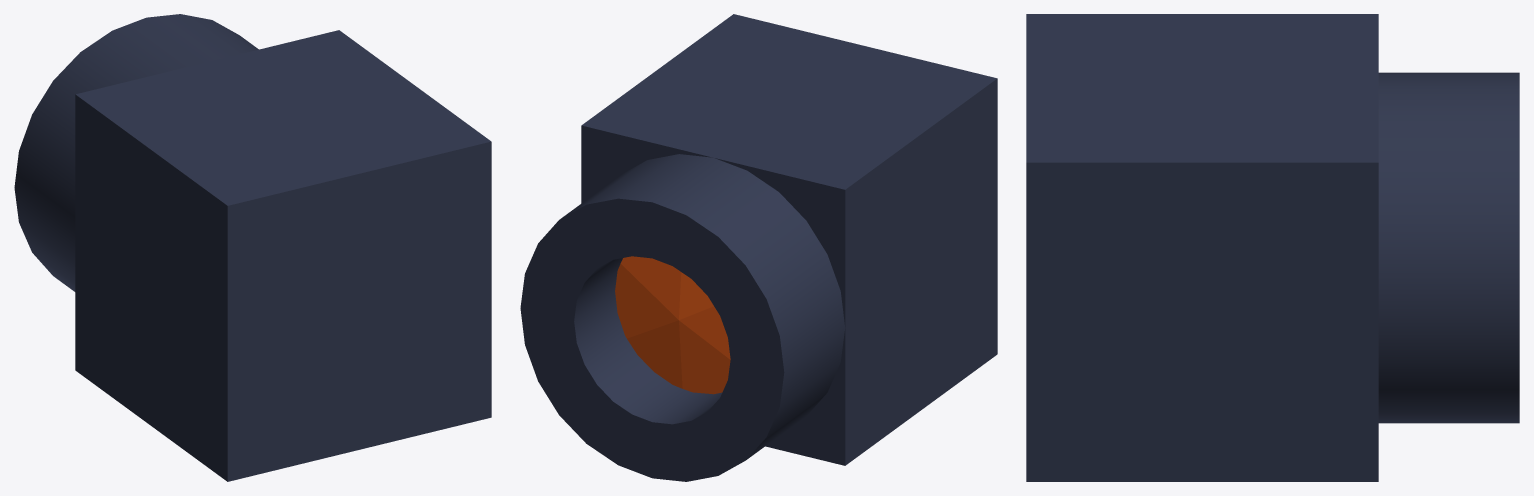
The model's file is flame gun.glb.
3 views of the same model, side by side, from view 1: azimuth 30°, elevation 25°; view 2: azimuth 150°, elevation 25°; view 3: azimuth 270°, elevation 25° (orthographic). The views are drawn at different scales.
Parts seen in each view (by area): view 1: mergedBlocks(Clone); view 2: mergedBlocks(Clone); view 3: mergedBlocks(Clone).
Part boxes in pixels (x1,y1,x2,y2): mergedBlocks(Clone): (14,14,491,481); mergedBlocks(Clone): (520,14,997,481); mergedBlocks(Clone): (1026,14,1519,481).
Size of the model in its own units: 1 by 1 by 1.4.
